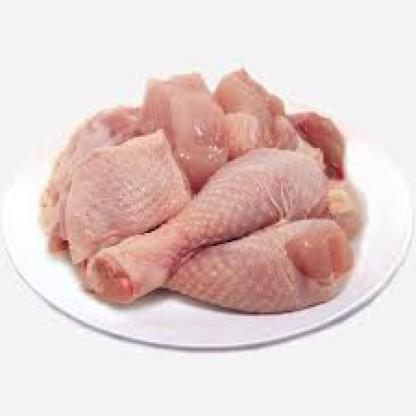chicken: (54, 81, 375, 309)
